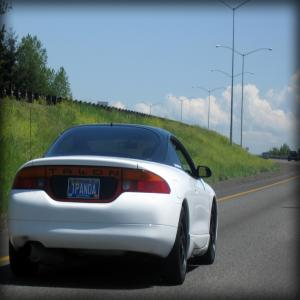Vehicle-registration-plate: (63, 183, 100, 207)
